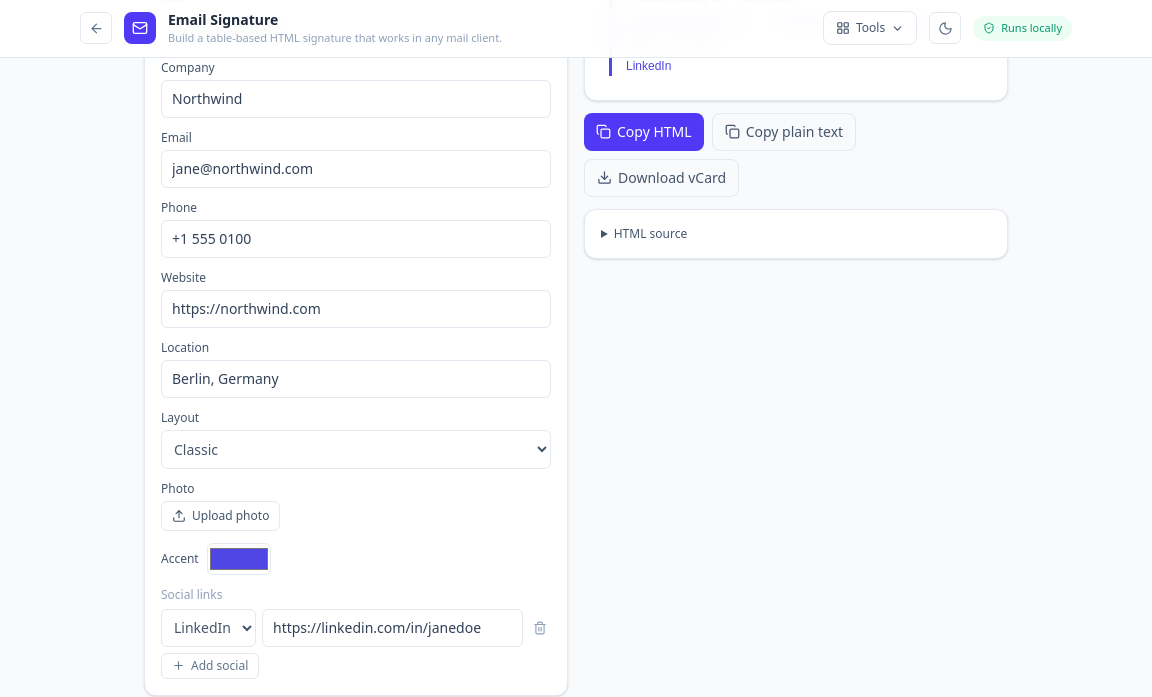
Test case: SignatureApp › adds a social link
(page scrolled)
Click the button "Add social".
click(210, 666)  # box [161,652,259,678]
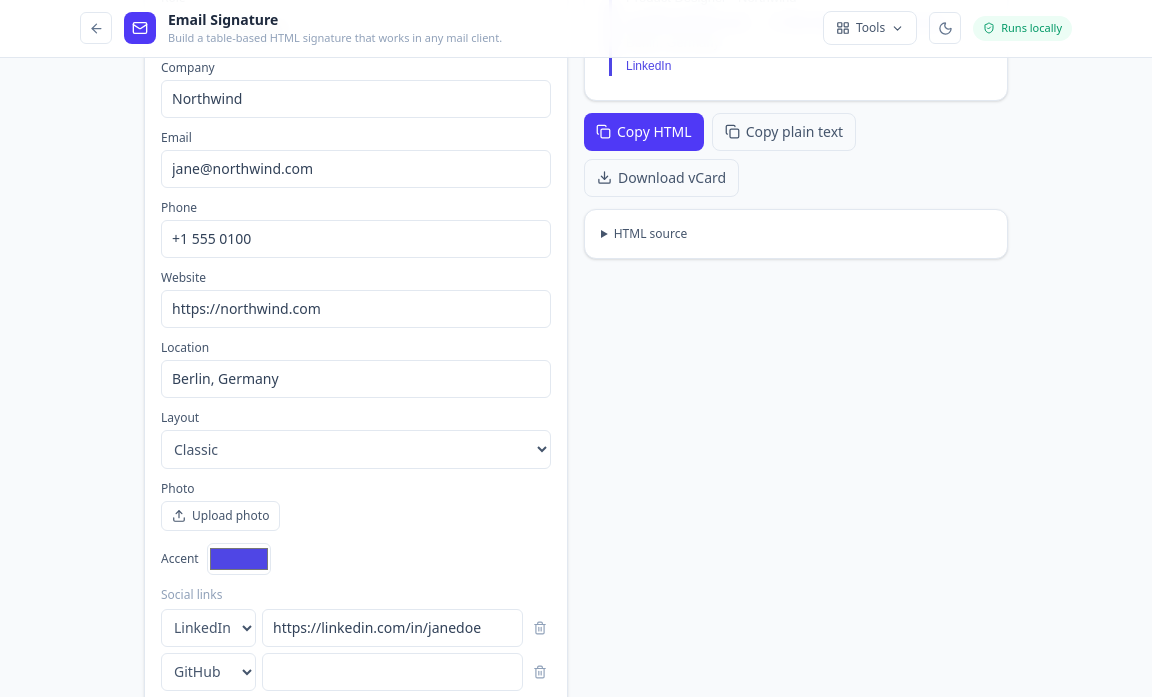
Expected: the number of fields named "Social url" is 2, [262,608,523,646]; [262,652,523,690]
